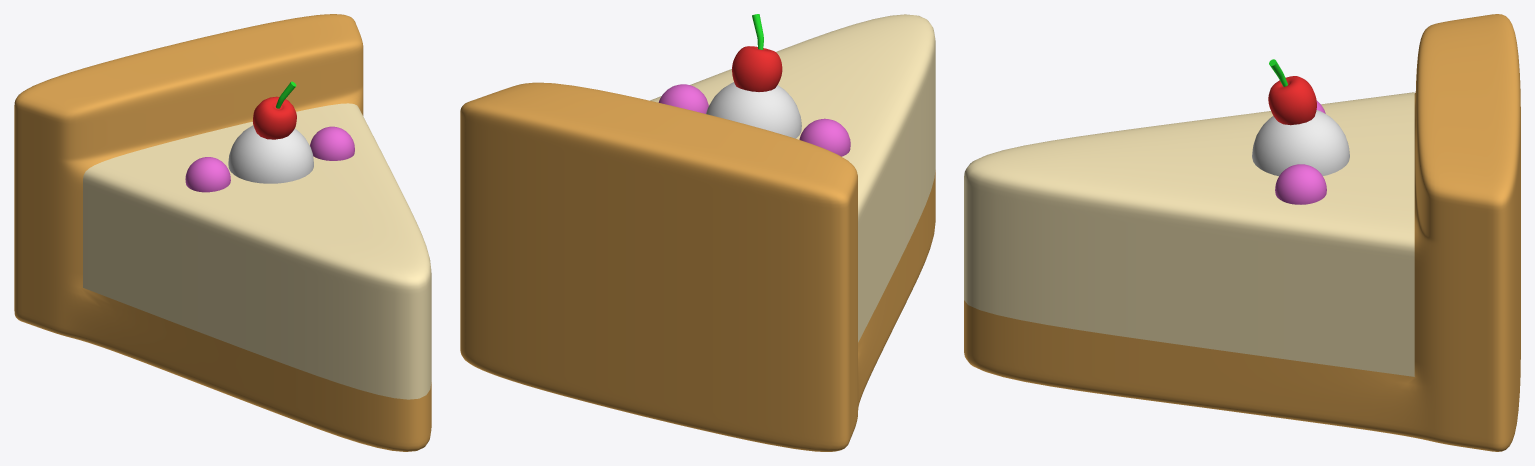
File: dilimkek.fbx
3 views of the same model, side by side, from view 1: azimuth 30°, elevation 25°; view 2: azimuth 150°, elevation 25°; view 3: azimuth 270°, elevation 25° (orthographic). The views are drawn at different scales.
Visible parts, largest first — view 1: dilimKek; view 2: dilimKek; view 3: dilimKek.
Boxes of the visible parts, x1=… form: dilimKek: x1=14, y1=14, x2=431, y2=451; dilimKek: x1=460, y1=14, x2=935, y2=451; dilimKek: x1=964, y1=14, x2=1520, y2=451.
Size of the model in its own units: 51.16 by 63.9 by 39.76.
